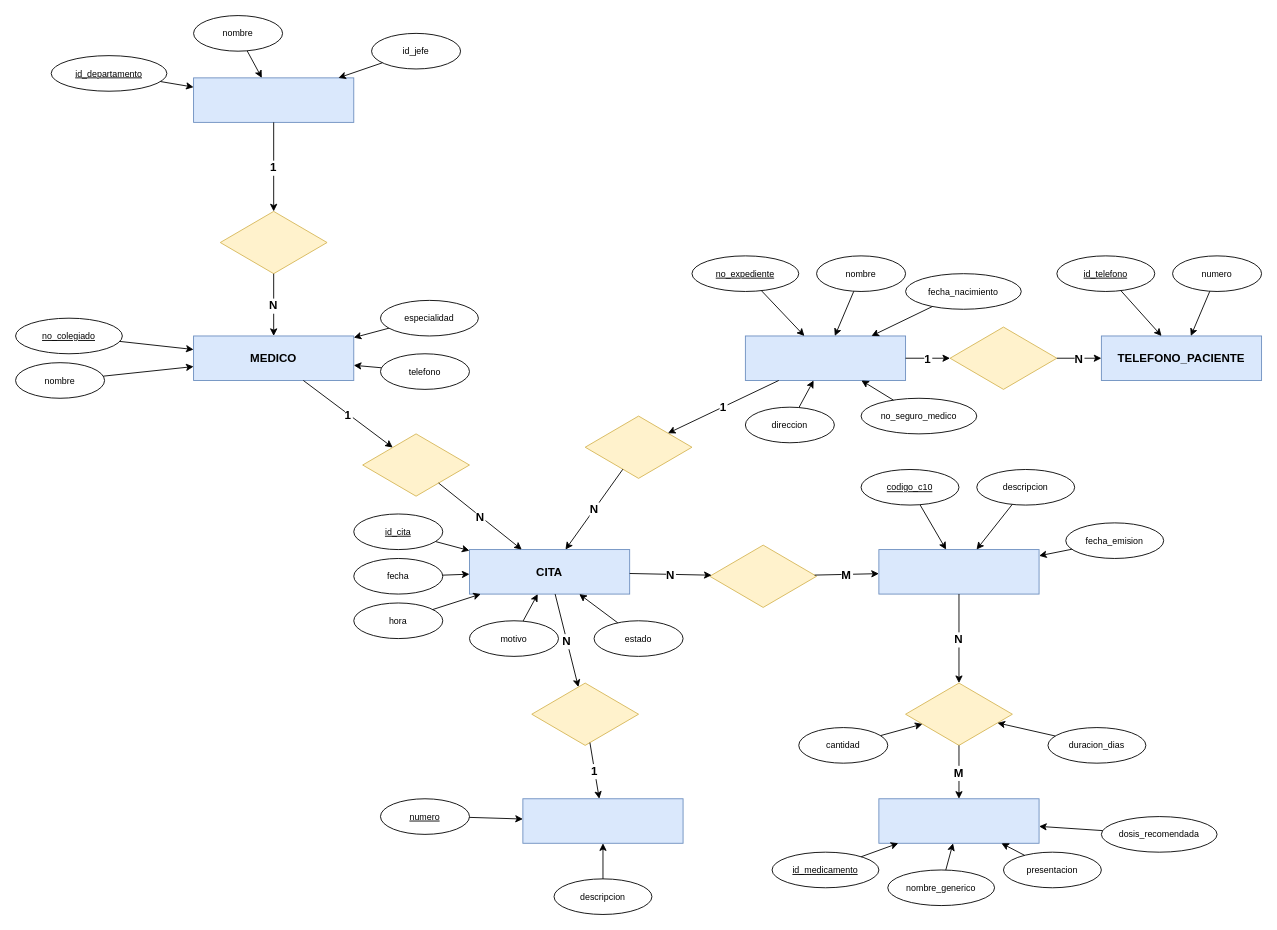
Some shapes in this 1277 by 930 pixel diagram are drawn without their labels. Each missing label, with the centre of its shape:
"ATIENDE" goes at (415,464).
"DEPARTAMENTO_CLI" goes at (273,99).
"DIAGNOSTICO" goes at (958,571).
"GENERA" goes at (763,575).
"MEDICAMENTO" goes at (958,820).
"PACIENTE" goes at (825,357).
"PERTENECE" goes at (273,242).
"PRESCRIBE" goes at (958,713).
"REALIZA" goes at (638,446).
"SALA_CLI" goes at (602,820).
"SE_DA_EN" goes at (585,713).
"TIENE" goes at (1003,357).
